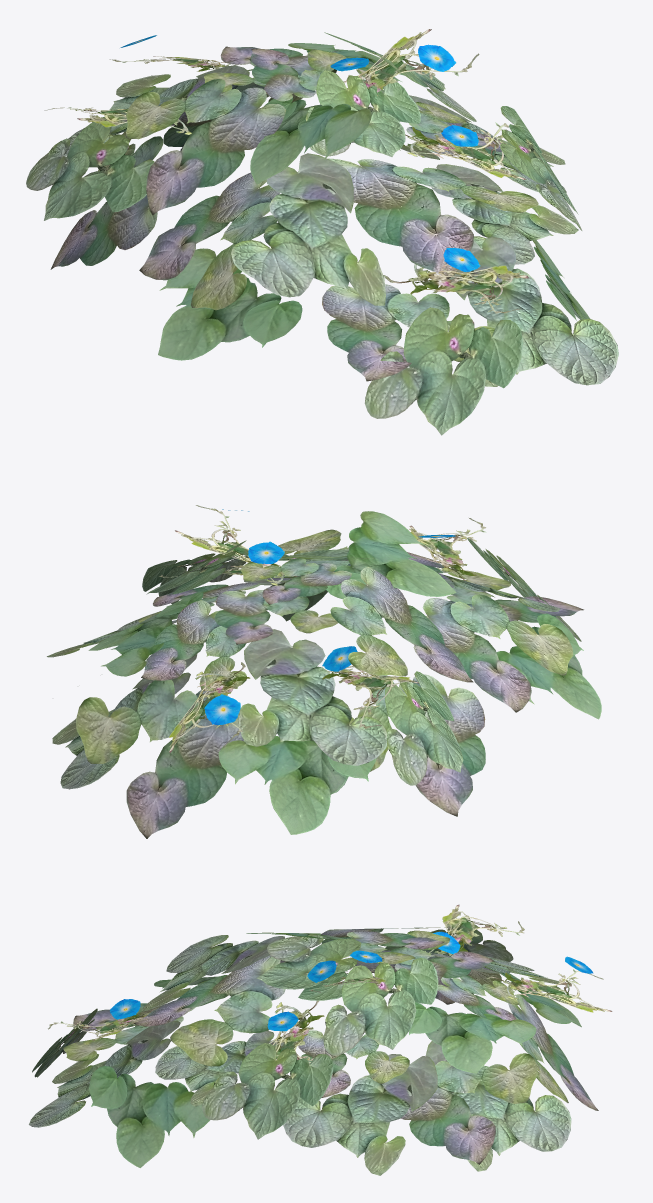
Rendered from MorningGlory1C.fbx.
3 views of the same model, one above another, from view 1: azimuth 30°, elevation 25°; view 2: azimuth 150°, elevation 25°; view 3: azimuth 270°, elevation 25° (orthographic). The views are drawn at different scales.
Parts seen in each view (by area): view 1: MorningGlory1C_LOD1; view 2: MorningGlory1C_LOD1; view 3: MorningGlory1C_LOD1.
Boxes of the visible parts, bbox=[...] form: MorningGlory1C_LOD1: bbox=[26, 29, 618, 435]; MorningGlory1C_LOD1: bbox=[47, 505, 601, 838]; MorningGlory1C_LOD1: bbox=[29, 904, 612, 1175].
Size of the model in its own units: 131 by 59.28 by 166.
